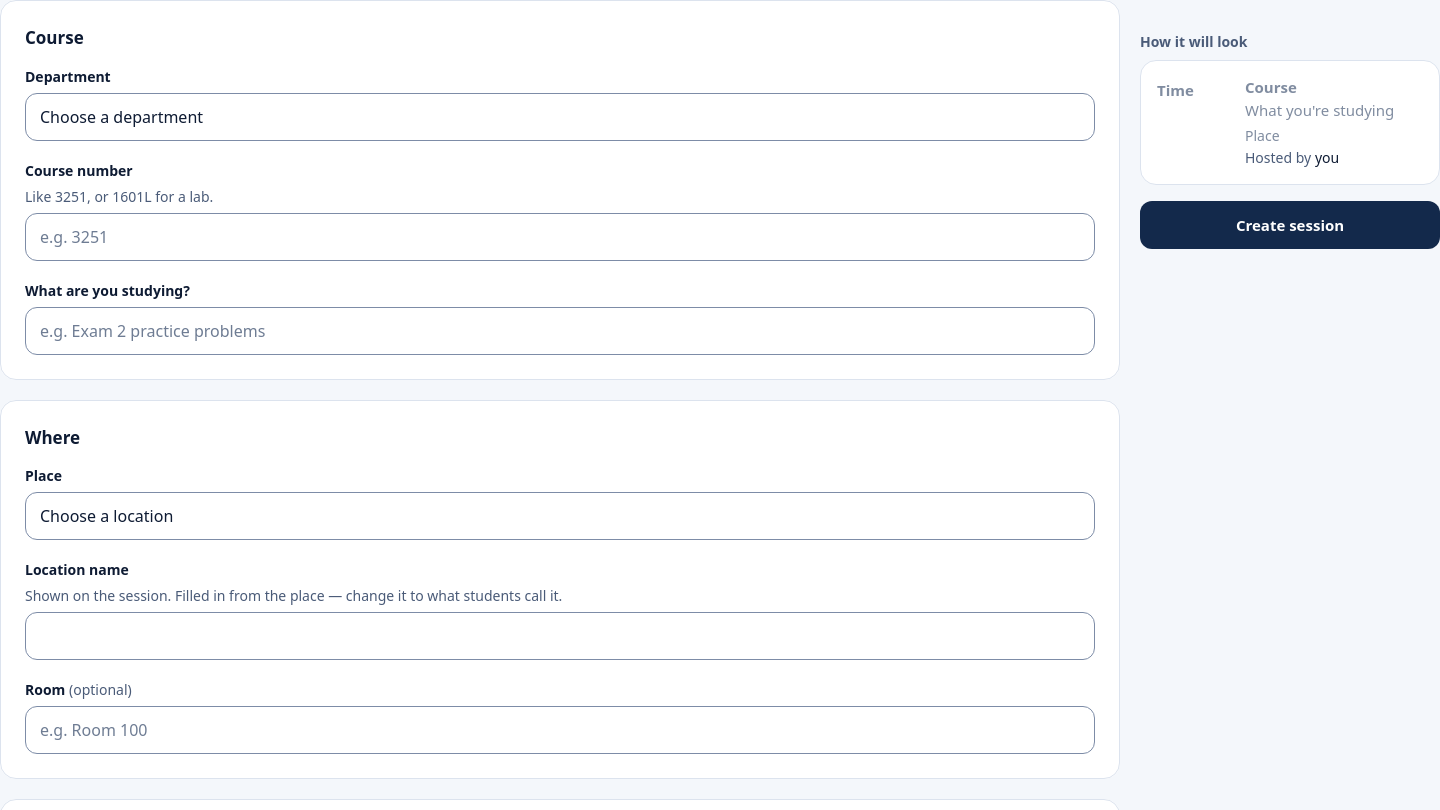
<CreateSessionForm> capacity stepper and preview › previews the card classmates will see as the host fills the form
Expected: the element that starts with "How it will look" shows "What you're studying", [1245,100,1394,120]
Select "CS — Computer Science" in the dropdown labelled "Department" at (560, 116), box [25,92,1095,140]
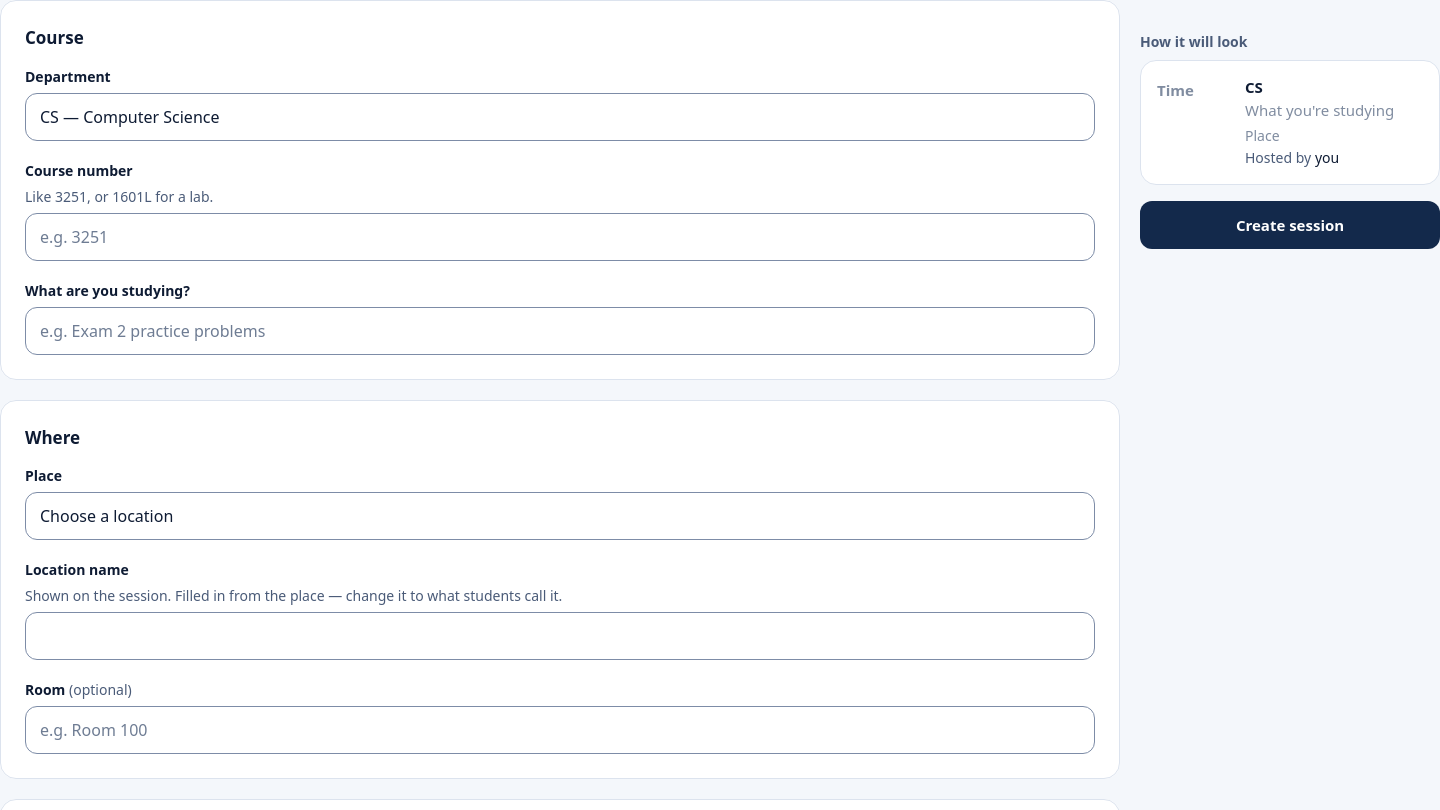
Type "Design patterns review" into the field labelled "What are you studying?" at (560, 330), box [25,306,1095,354]
(page scrolled)
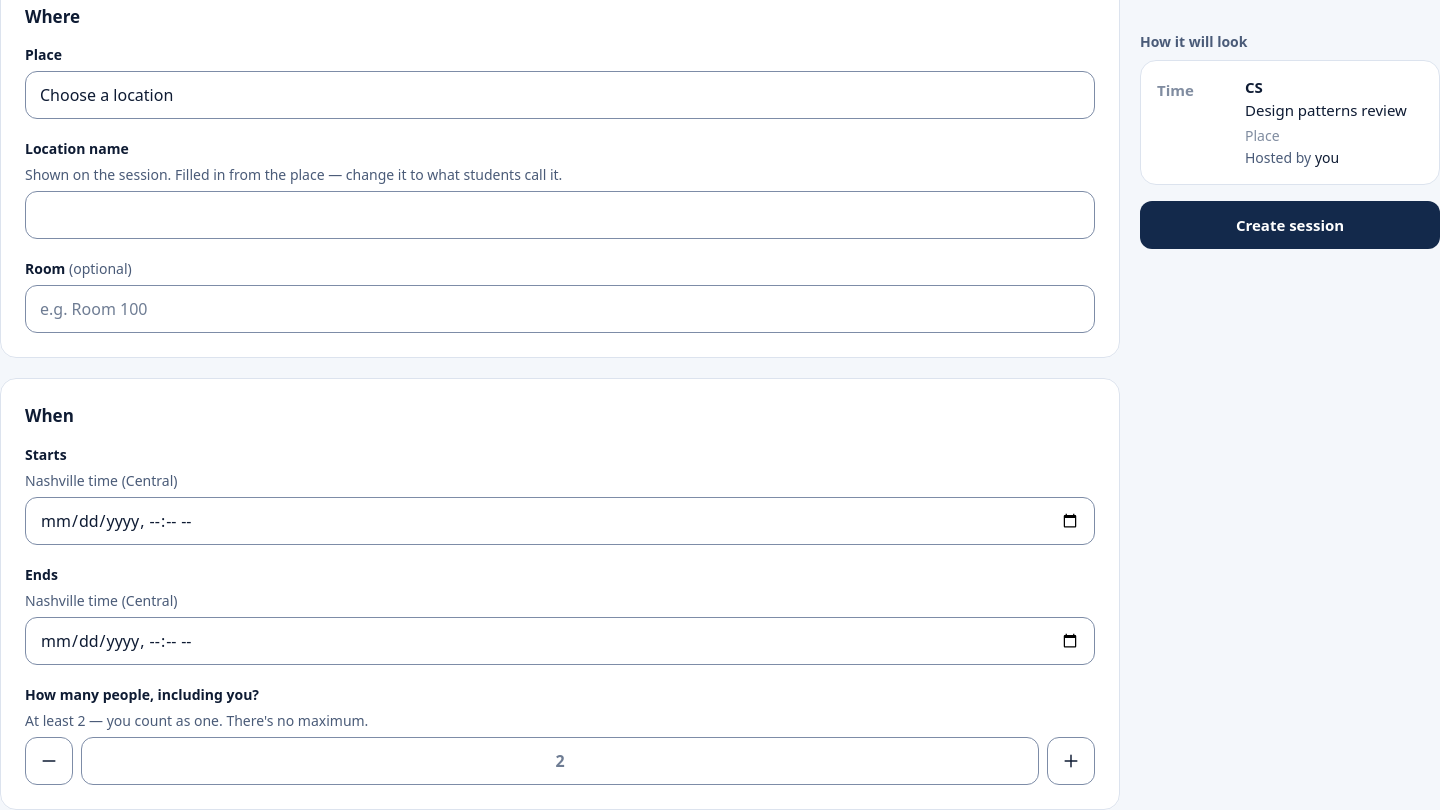
Click the button named "One more person" at (1071, 760), box [1047,736,1095,784]
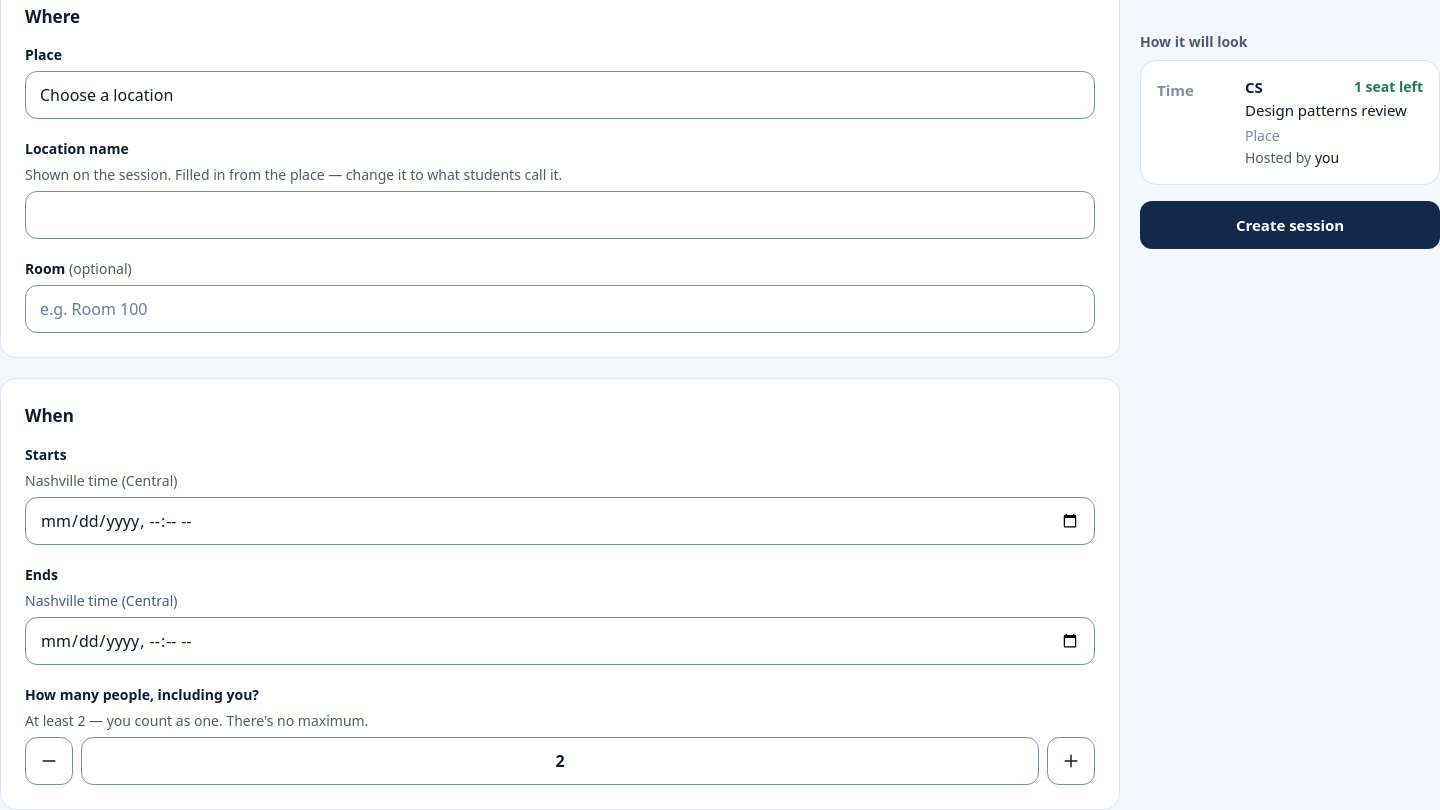
Click the button named "One more person" at (1071, 760), box [1047,736,1095,784]
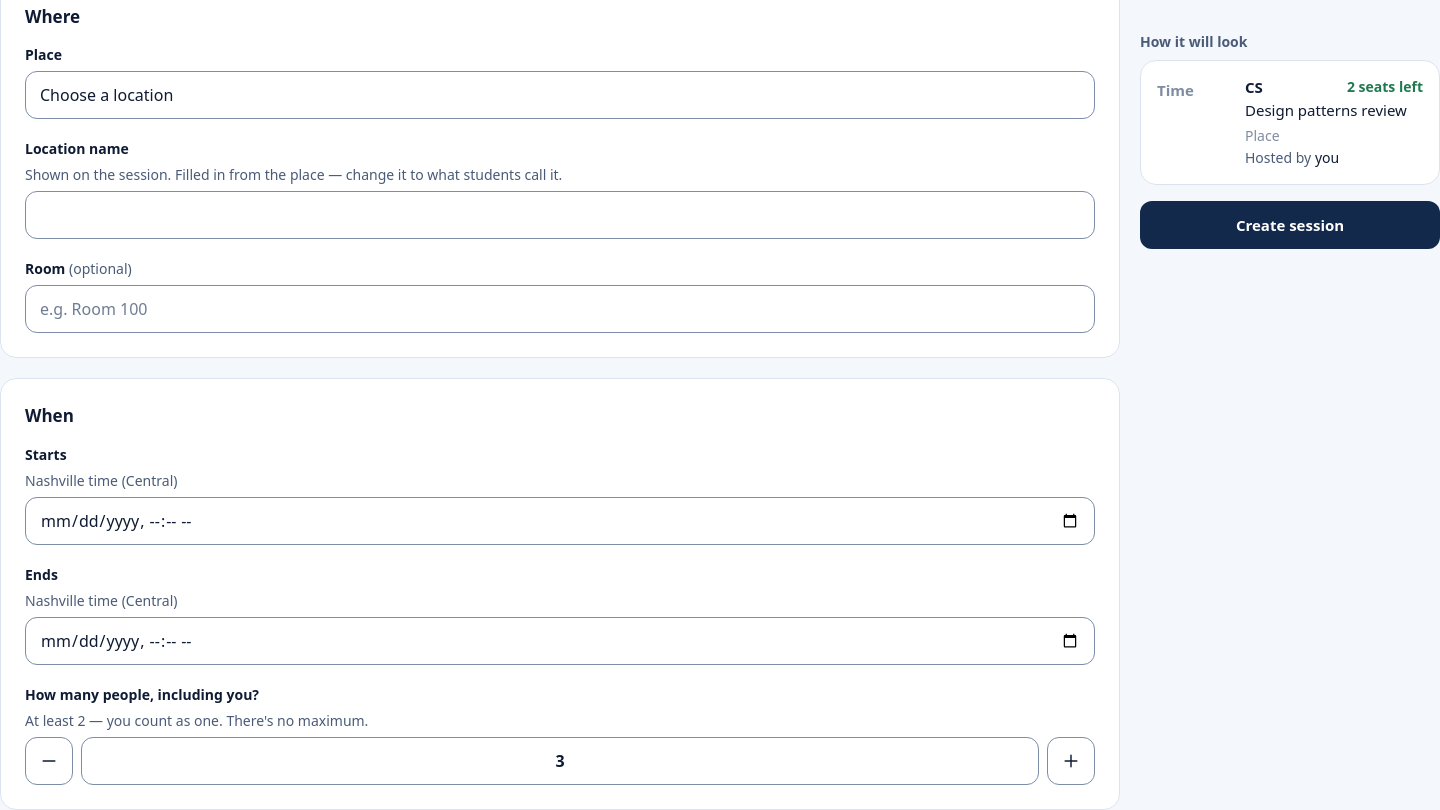
Expected: the element that starts with "How it will look" shows "Design patterns review", [1245,100,1407,120]
Expected: the element that starts with "How it will look" shows "CS", [1245,77,1263,97]
Expected: the element that starts with "How it will look" shows "2 seats left", [1347,77,1423,96]
